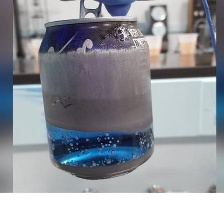can: (35, 10, 161, 186)
